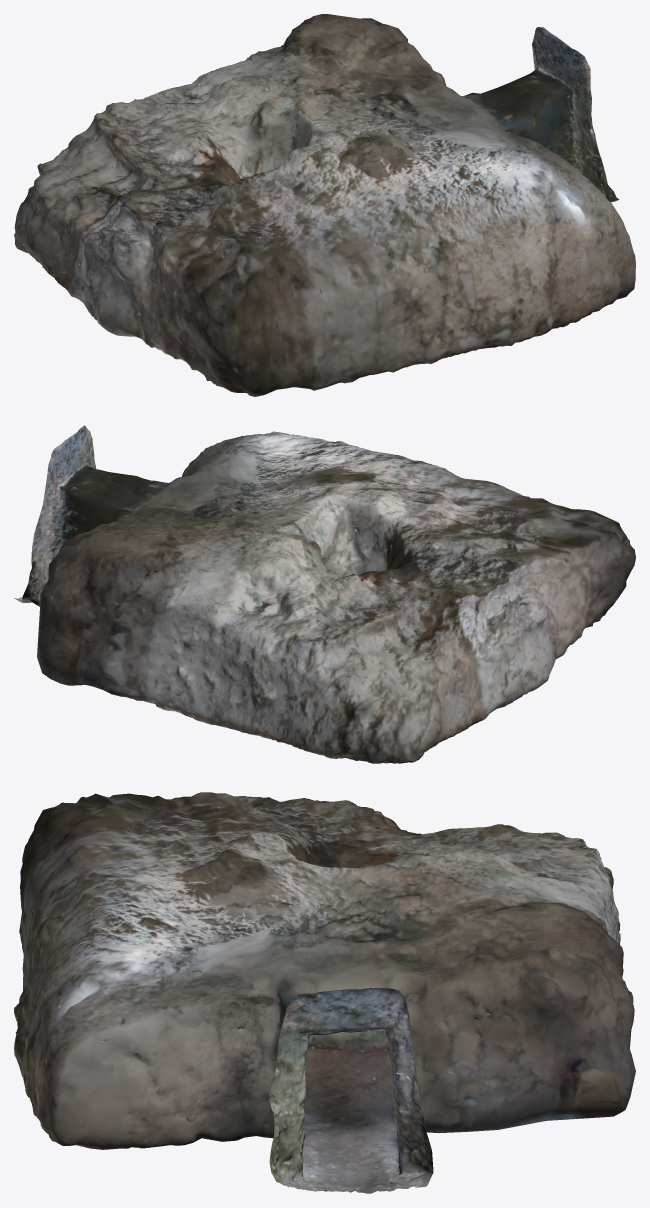
Rendered from Tafos24_Inside.fbx.
The picture shows the model from 3 angles, top to bottom: view 1: azimuth 30°, elevation 25°; view 2: azimuth 150°, elevation 25°; view 3: azimuth 270°, elevation 25°; orthographic projection. The views are drawn at different scales.
Visible parts, largest first — view 1: Tafos24_vid175056; view 2: Tafos24_vid175056; view 3: Tafos24_vid175056.
Boxes of the visible parts, x1,y1,x2,y2 form: Tafos24_vid175056: (14, 14, 635, 396); Tafos24_vid175056: (14, 425, 635, 763); Tafos24_vid175056: (14, 792, 635, 1193).
Size of the model in its own units: 717 by 628 by 244.
